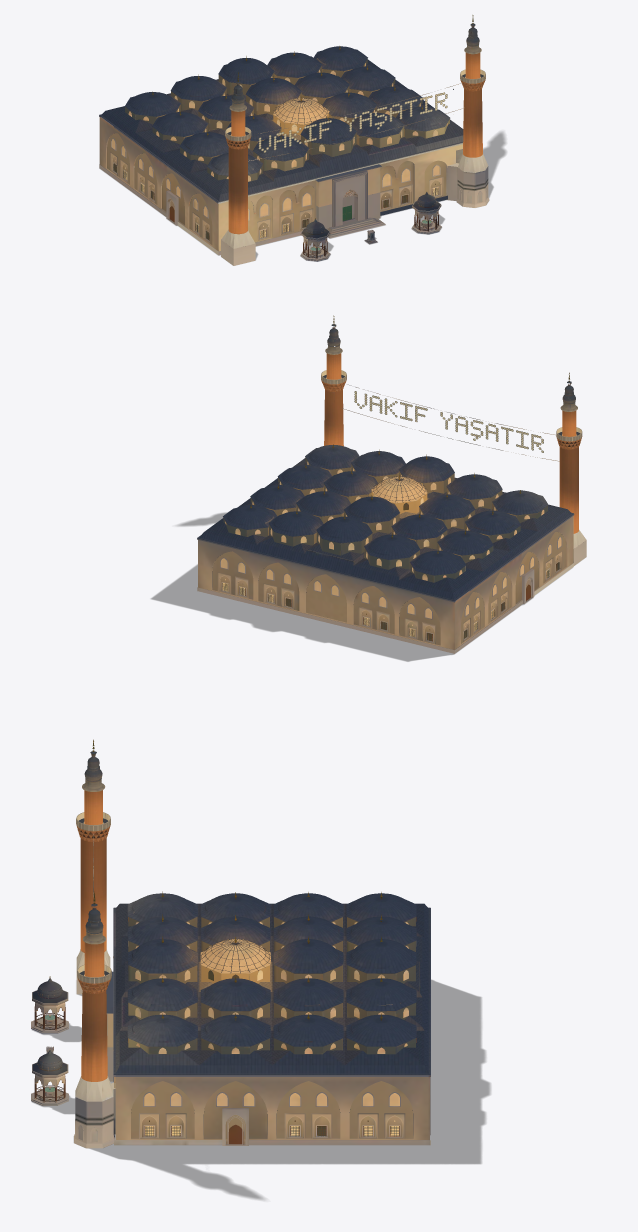
The model's file is ulu-cami_v32_night_v2_harita_pisik.glb.
The picture shows the model from 3 angles, top to bottom: view 1: azimuth 30°, elevation 25°; view 2: azimuth 150°, elevation 25°; view 3: azimuth 270°, elevation 25°; orthographic projection. The views are drawn at different scales.
Parts seen in each view (by area): view 1: Kubbeler_19, Cati, Cephe_Kuzey, Cephe_Dogu, Minare_1, Minare_2, Pencere_Girintileri, Tac_Kapi, Giris_Cikintili_Blok, Mahya, Sadirvan_Kubbe, Kasnak_Pencereleri (+6 smaller); view 2: Kubbeler_19, Cephe_Guney, Cati, Harita_Golge, Cephe_Dogu, Pencere_Girintileri, Minare_2, Minare_1, Mermer_Bant, Mahya, Sadirvan_Kubbe, Kasnak_Pencereleri (+1 smaller); view 3: Kubbeler_19, Harita_Golge, Cephe_Bati, Cati, Minare_1, Minare_2, Pencere_Girintileri, Sadirvan_Kubbe, Mermer_Bant, Kasnak_Pencereleri, Avlu_Sadirvan_Bati, Avlu_Sadirvan_Dogu (+4 smaller).
Boxes of the visible parts, x1,y1,x2,y2 form: Kubbeler_19: (125,46,450,181); Cati: (99,59,463,202); Cephe_Kuzey: (218,144,462,251); Cephe_Dogu: (100,117,217,250); Minare_1: (446,15,489,207); Minare_2: (221,72,255,265); Pencere_Girintileri: (110,152,443,243); Tac_Kapi: (327,170,385,238); Giris_Cikintili_Blok: (315,164,381,228); Mahya: (248,83,464,161); Sadirvan_Kubbe: (273,98,329,135); Kasnak_Pencereleri: (128,63,447,181); Kubbeler_19: (223,445,548,582); Cephe_Guney: (198,540,454,649); Cati: (197,458,573,600); Harita_Golge: (151,513,566,661); Cephe_Dogu: (455,516,572,649); Pencere_Girintileri: (217,550,563,644); Minare_2: (556,372,586,565); Minare_1: (321,315,346,446); Mermer_Bant: (197,563,573,653); Mahya: (342,384,559,461); Sadirvan_Kubbe: (371,476,427,513); Kasnak_Pencereleri: (225,461,544,580); Kubbeler_19: (127,893,416,1054); Harita_Golge: (32,980,490,1199); Cephe_Bati: (115,1077,428,1144); Cati: (113,903,430,1074); Minare_1: (74,891,115,1148); Minare_2: (76,739,110,994); Pencere_Girintileri: (139,1113,405,1138); Sadirvan_Kubbe: (200,939,270,983); Mermer_Bant: (113,1077,430,1145); Kasnak_Pencereleri: (128,917,416,1053); Avlu_Sadirvan_Bati: (31,1049,68,1105); Avlu_Sadirvan_Dogu: (31,976,68,1033).
Size of the model in its own units: 103 by 48.1 by 107.
Materials: 2 (2 with a texture image).
